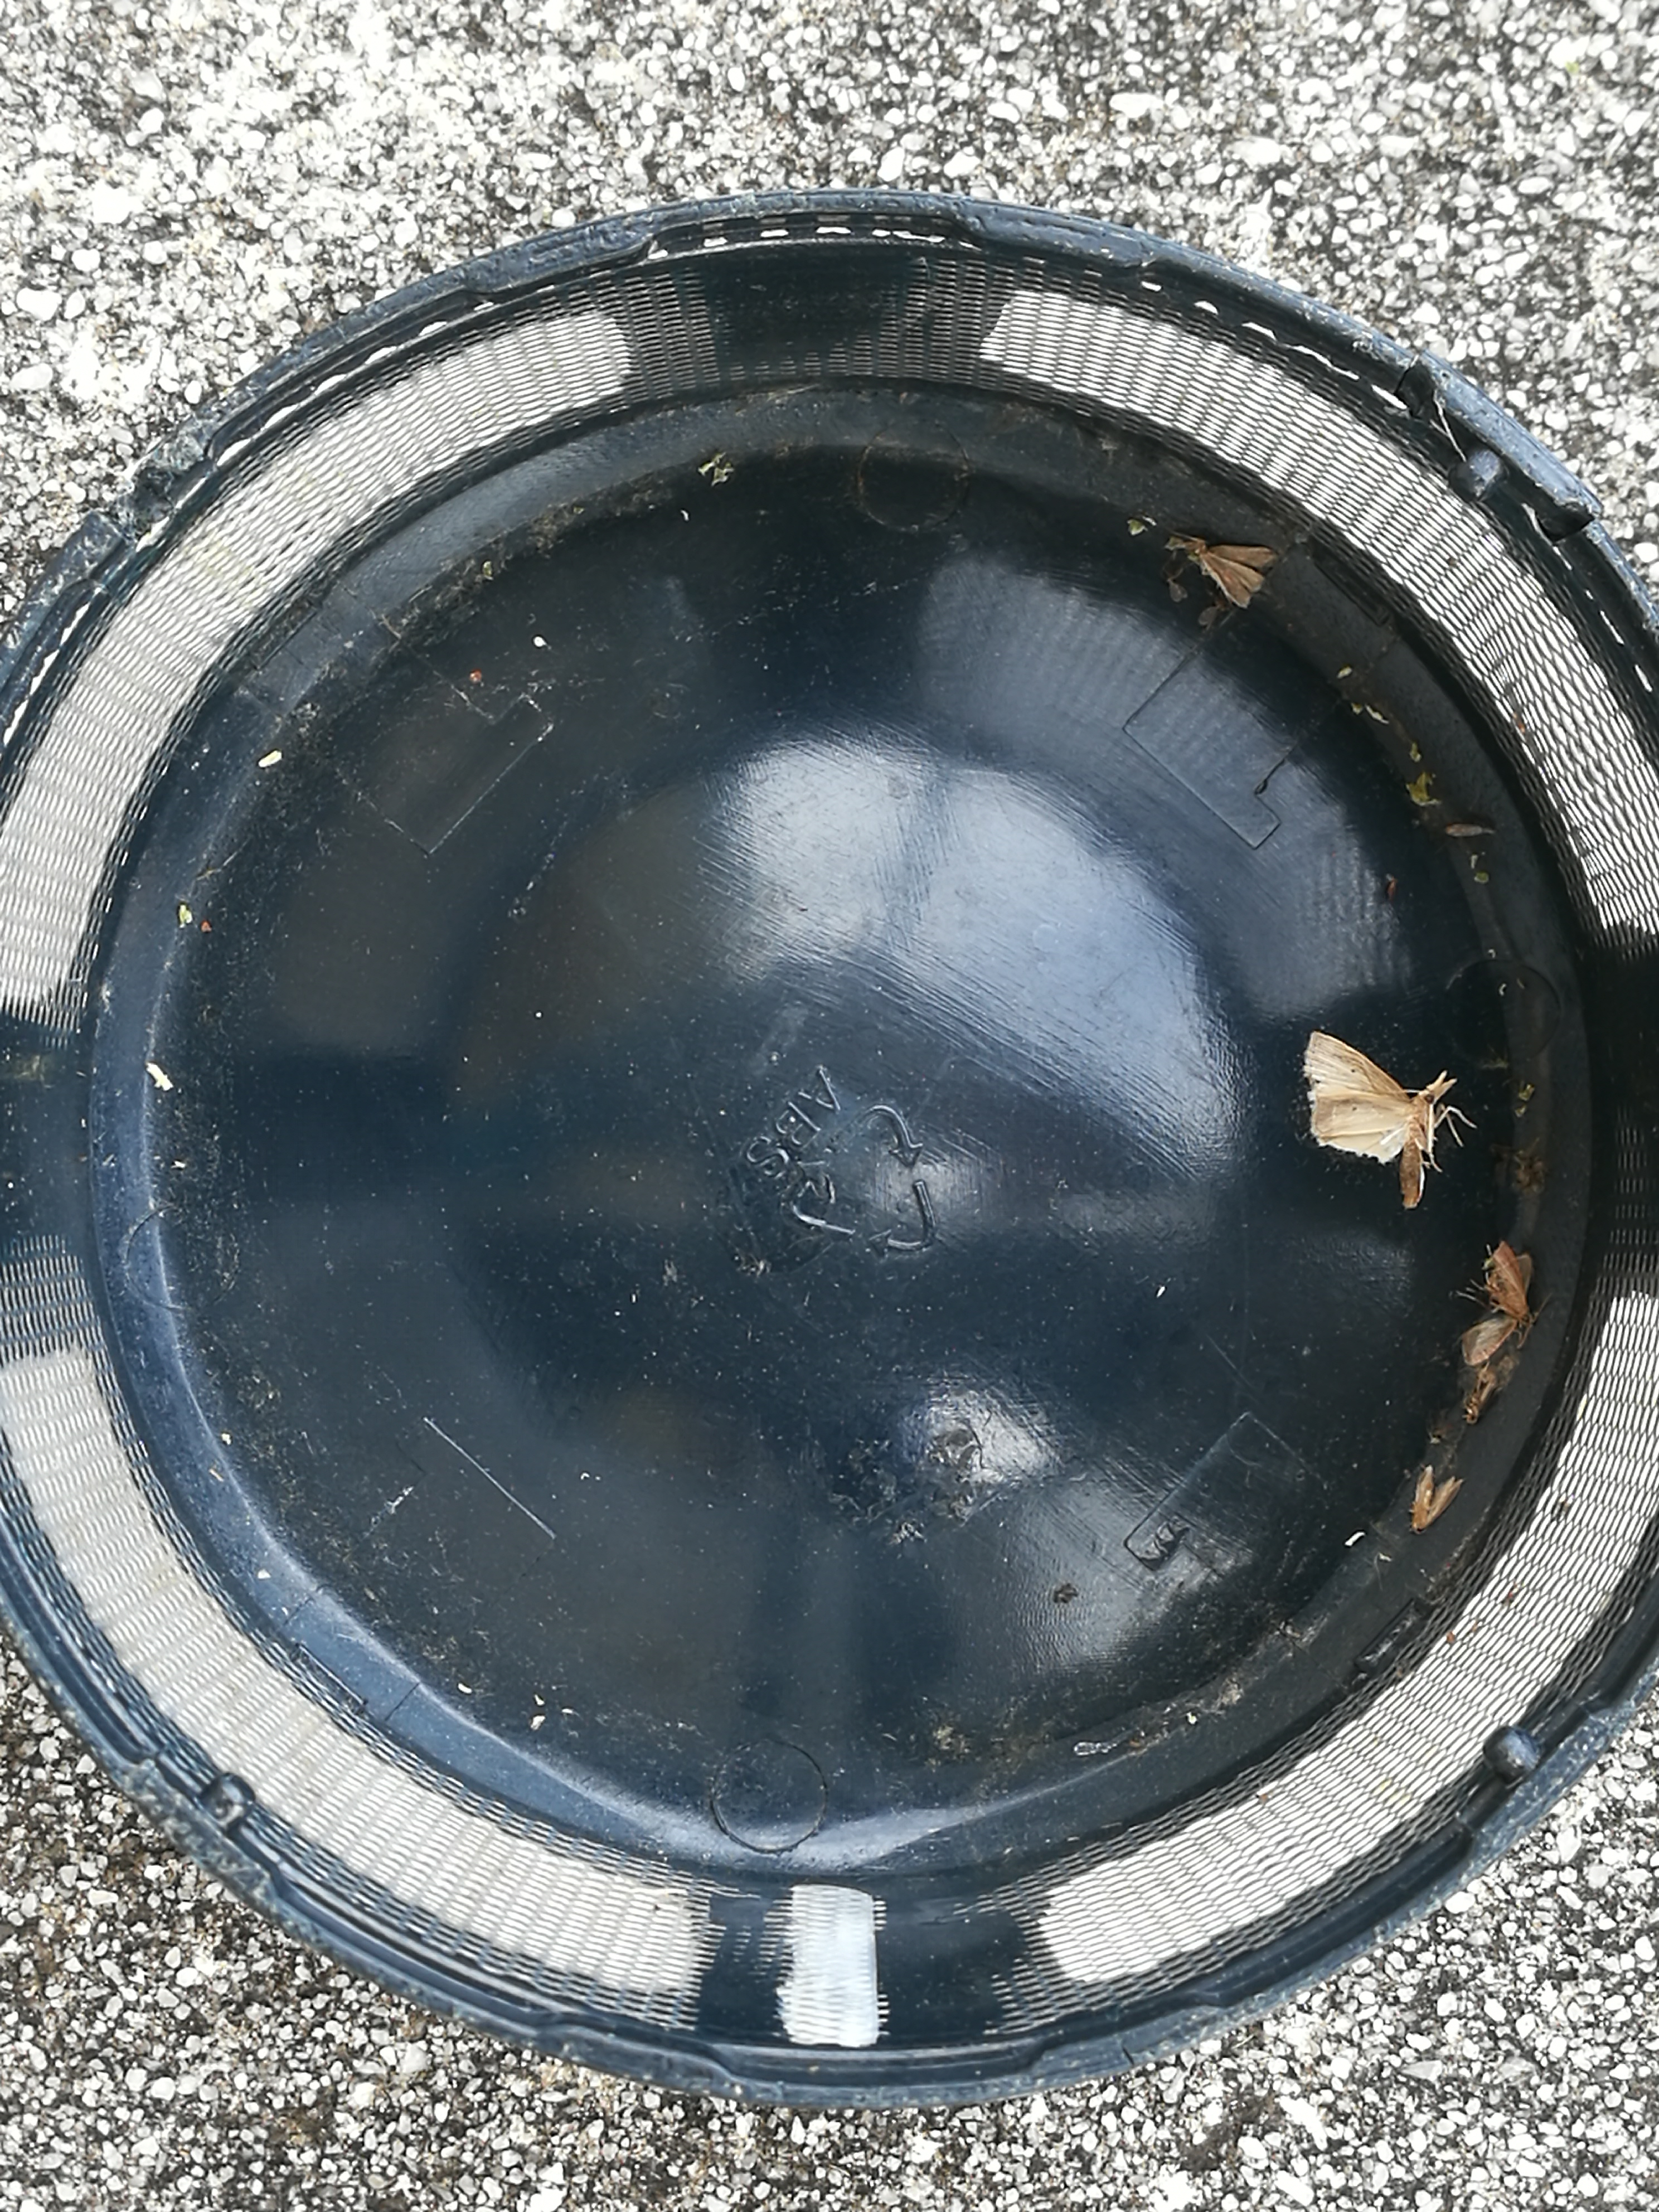moth: (1303, 1033, 1459, 1204), (1466, 1242, 1534, 1364), (1182, 538, 1276, 604), (1460, 1352, 1516, 1423), (1415, 1465, 1464, 1527)
